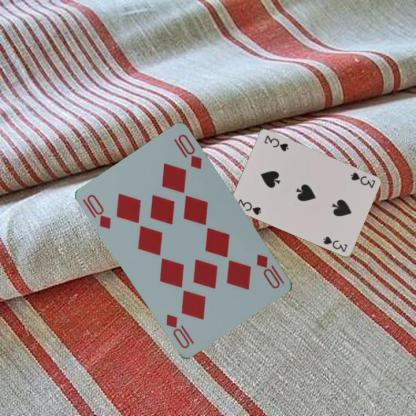10d: (254, 251, 286, 290), (84, 191, 113, 231)
3s: (348, 170, 377, 190), (234, 197, 263, 216)
